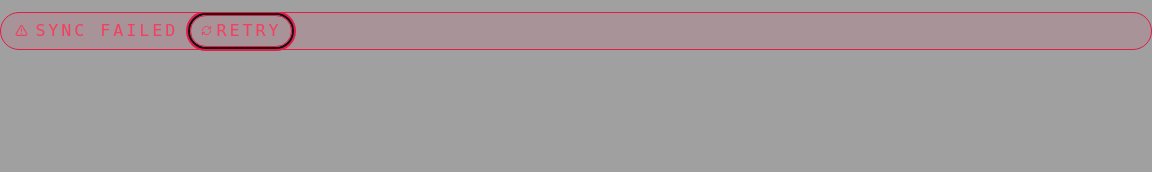
Test case: SyncBadge tooltip — error phase › lets the Retry button take focus without closing focus behaviour
Focus the button with test id "radio-sync-retry" at (241, 31), box [190,15,292,47]
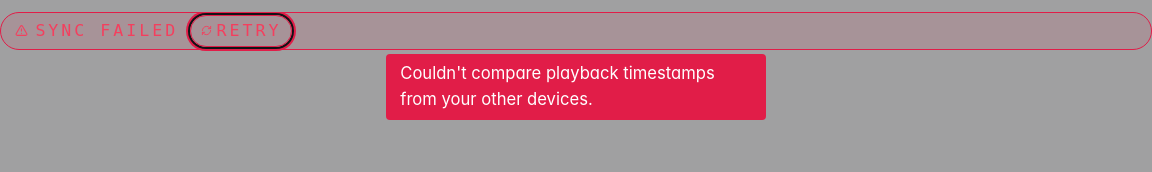
Check: the tooltip with test id "radio-sync-tooltip" is shown, box [386,54,766,120]
